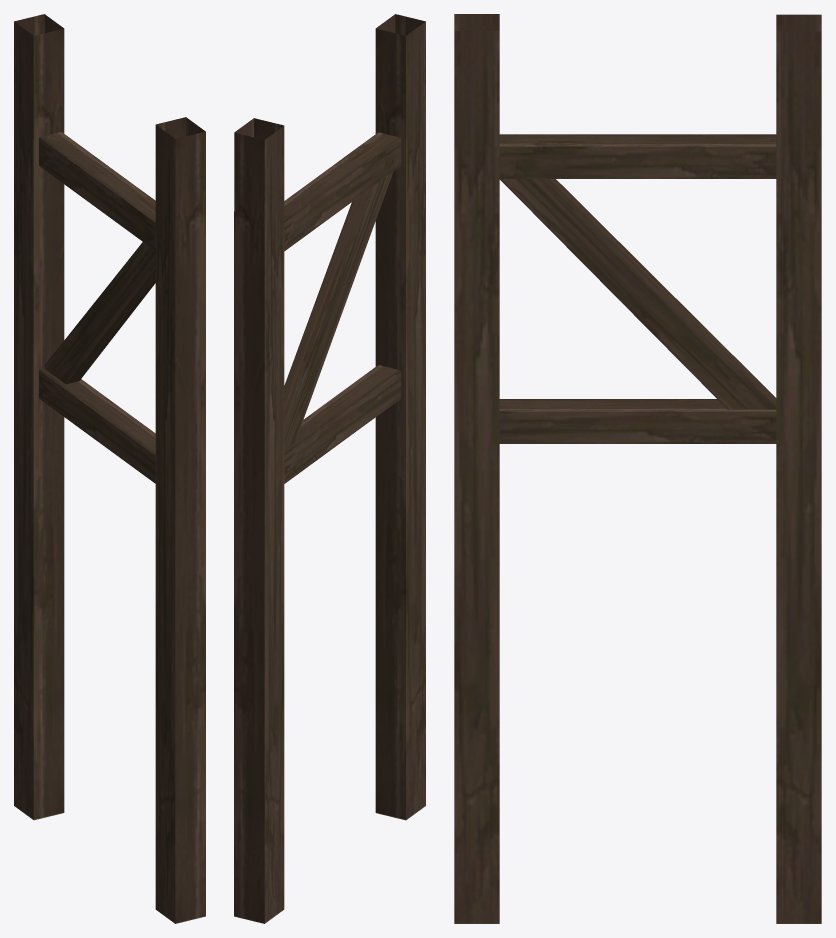
File: fld_muzhu01_w.FBX
The picture shows the model from 3 angles, left to right: view 1: azimuth 30°, elevation 25°; view 2: azimuth 150°, elevation 25°; view 3: azimuth 270°, elevation 25°; orthographic projection. The views are drawn at different scales.
Visible parts, largest first — view 1: fld_muzhu01_w; view 2: fld_muzhu01_w; view 3: fld_muzhu01_w.
Part boxes in pixels (x1,y1,x2,y2): fld_muzhu01_w: [14, 14, 205, 923]; fld_muzhu01_w: [234, 14, 425, 923]; fld_muzhu01_w: [454, 14, 821, 923].
Size of the model in its own units: 6.3 by 154 by 57.56.
